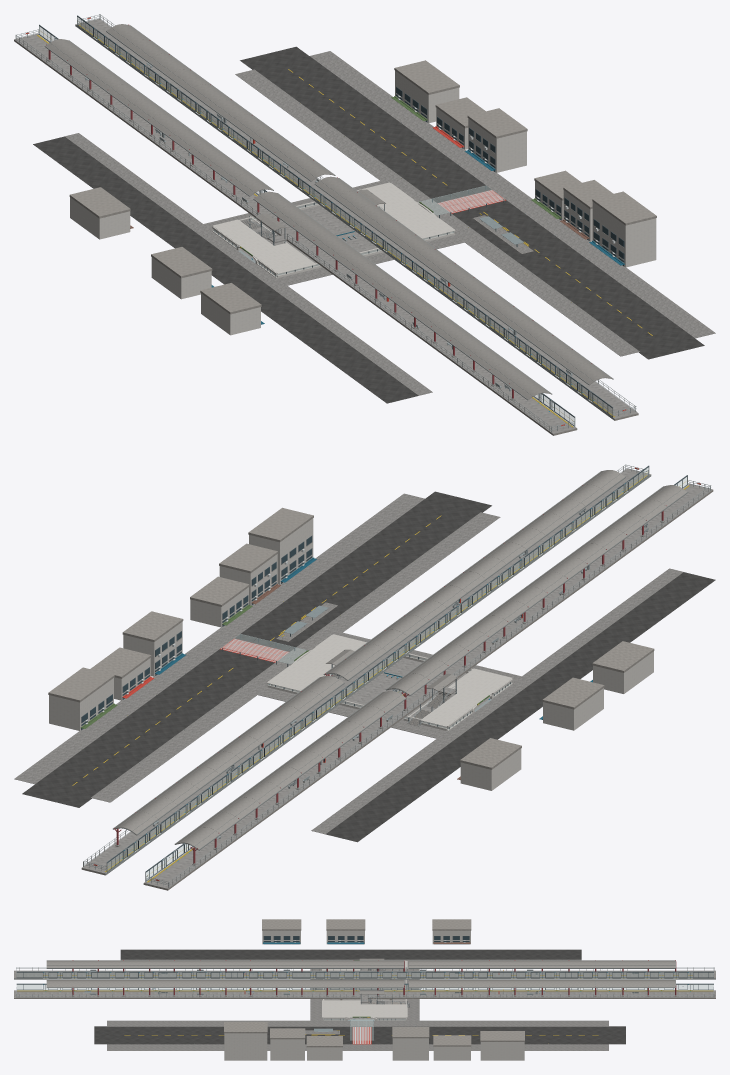
The model's file is Line4_Jeongwang_Game.fbx.
3 renders of one model, top to bottom at view 1: azimuth 30°, elevation 25°; view 2: azimuth 150°, elevation 25°; view 3: azimuth 270°, elevation 25°, orthographic. The views are drawn at different scales.
Parts seen in each view (by area): view 1: Station_Street_Station, Canopies_Station, Street_Buildings_Station, Platforms_Station, Concourse_Station, PSD_Static_Station, Access_Station, Platform_Station; view 2: Station_Street_Station, Canopies_Station, Street_Buildings_Station, Platforms_Station, Concourse_Station, PSD_Static_Station, Access_Station, Platform_Station; view 3: Station_Street_Station, Platforms_Station, Canopies_Station, Street_Buildings_Station, PSD_Static_Station, Concourse_Station, Access_Station, Platform_Station.
Boxes of the visible parts, <box> form: Station_Street_Station: <box>33,46,715,403</box>; Canopies_Station: <box>44,24,613,400</box>; Street_Buildings_Station: <box>69,60,656,335</box>; Platforms_Station: <box>14,18,638,435</box>; Concourse_Station: <box>203,181,464,285</box>; PSD_Static_Station: <box>39,15,613,426</box>; Access_Station: <box>15,14,636,431</box>; Platform_Station: <box>16,14,635,432</box>; Station_Street_Station: <box>14,491,715,842</box>; Canopies_Station: <box>113,470,688,865</box>; Street_Buildings_Station: <box>48,507,654,790</box>; Platforms_Station: <box>81,468,713,890</box>; Concourse_Station: <box>258,632,521,738</box>; PSD_Static_Station: <box>106,465,687,881</box>; Access_Station: <box>83,465,711,887</box>; Platform_Station: <box>83,464,710,887</box>; Station_Street_Station: <box>94,949,625,1050</box>; Platforms_Station: <box>14,970,715,998</box>; Canopies_Station: <box>46,960,676,996</box>; Street_Buildings_Station: <box>224,919,524,1060</box>; PSD_Static_Station: <box>16,971,713,990</box>; Concourse_Station: <box>310,960,419,1020</box>; Access_Station: <box>16,958,714,1007</box>; Platform_Station: <box>16,967,713,996</box>.
Bounding box in the file's own units: 9145 × 978 × 21500.
